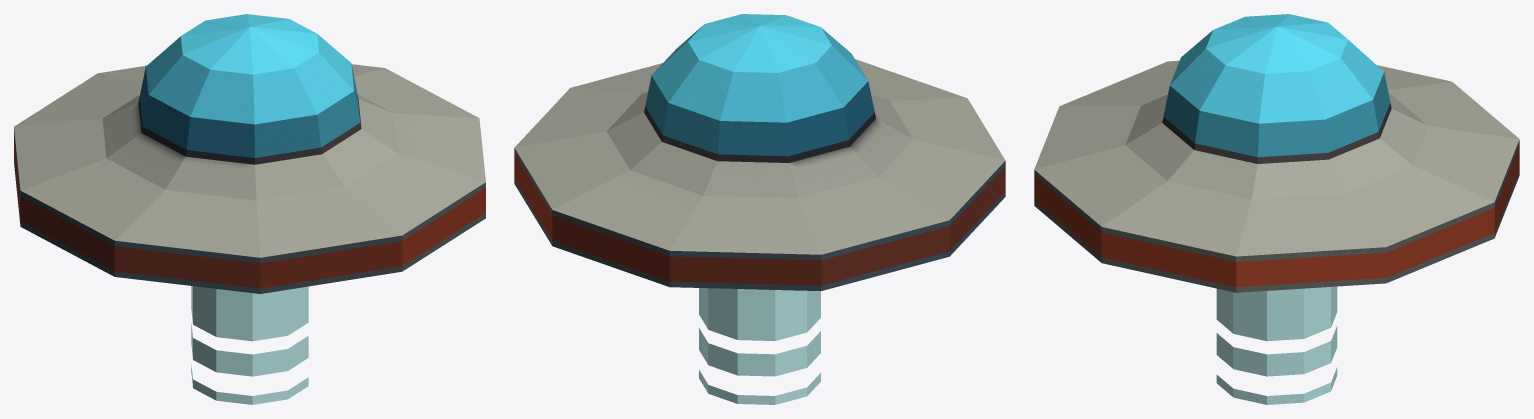
File: 729e729f-b5c2-4fc3-979d-ddabe9dcab7d.glb
3 renders of one model, left to right at view 1: azimuth 30°, elevation 25°; view 2: azimuth 150°, elevation 25°; view 3: azimuth 270°, elevation 25°, orthographic.
Parts seen in each view (by area): view 1: PUSHILIN_flying_saucer_Circle.006; view 2: PUSHILIN_flying_saucer_Circle.006; view 3: PUSHILIN_flying_saucer_Circle.006.
Boxes of the visible parts, x1,y1,x2,y2 form: PUSHILIN_flying_saucer_Circle.006: [14, 14, 485, 404]; PUSHILIN_flying_saucer_Circle.006: [514, 14, 1005, 404]; PUSHILIN_flying_saucer_Circle.006: [1034, 14, 1519, 404].
Bounding box in the file's own units: 2.75 × 2.22 × 2.76.
1 material, 1 textured.
